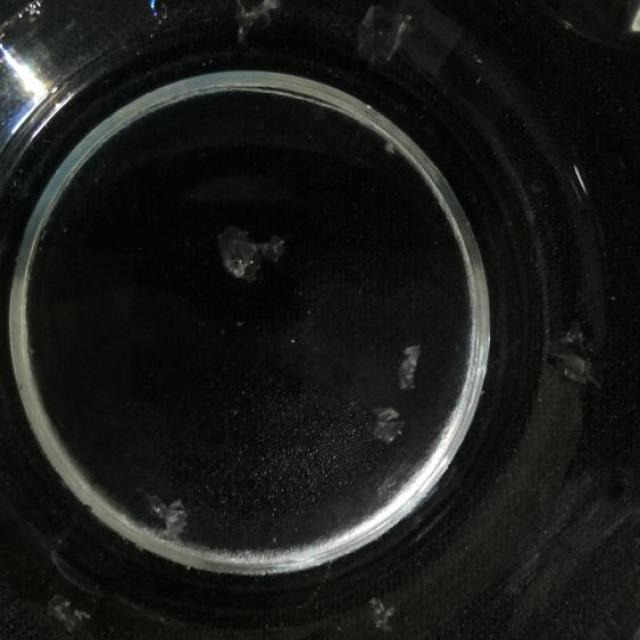fiber: (209, 220, 293, 282), (40, 580, 90, 639), (141, 494, 197, 544), (391, 336, 430, 398), (363, 405, 412, 448), (366, 589, 397, 633)
